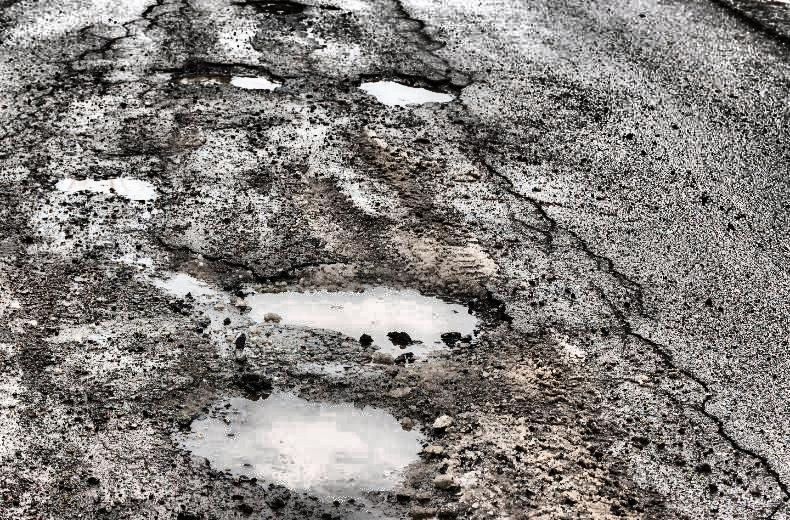pothole: (174, 385, 435, 517), (236, 278, 495, 365), (349, 70, 465, 111), (52, 168, 161, 208), (169, 68, 285, 93), (241, 2, 310, 17)
